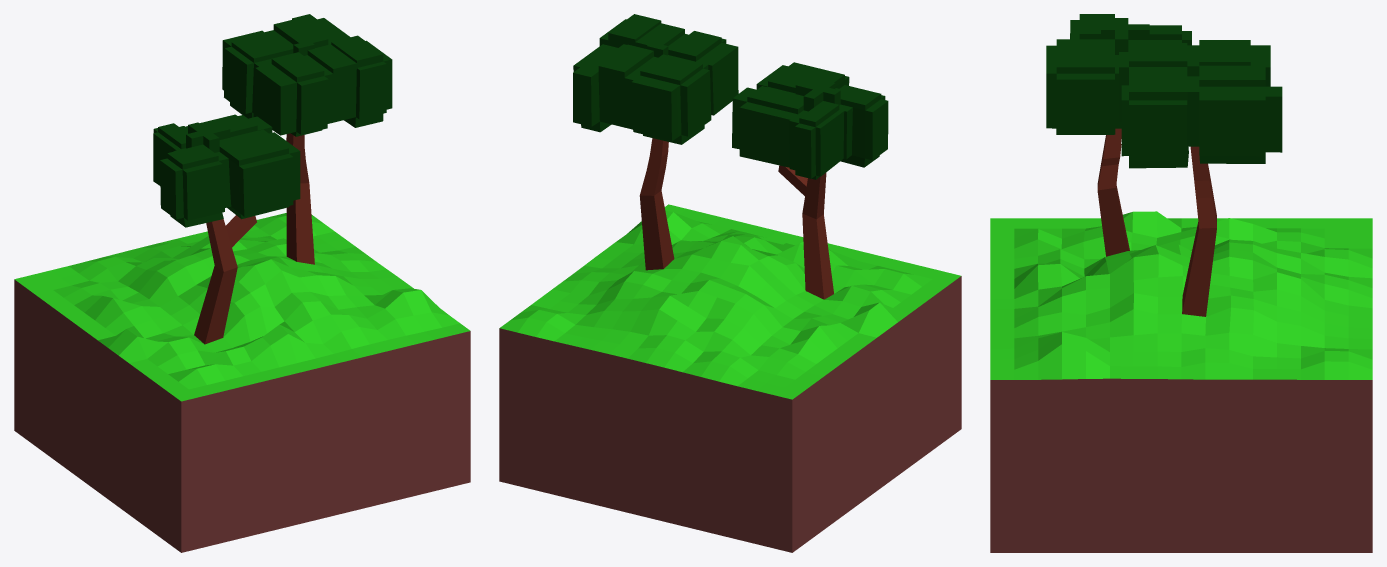
Rendered from grassBLOCK1.fbx.
3 renders of one model, left to right at view 1: azimuth 30°, elevation 25°; view 2: azimuth 150°, elevation 25°; view 3: azimuth 270°, elevation 25°, orthographic. The views are drawn at different scales.
Parts seen in each view (by area): view 1: Cube; view 2: Cube; view 3: Cube.
Part boxes in pixels (left/top/right/bottom): Cube: left=14, top=14, right=470, bottom=552; Cube: left=499, top=14, right=961, bottom=552; Cube: left=990, top=14, right=1372, bottom=552.
Size of the model in its own units: 100 by 129 by 100.
